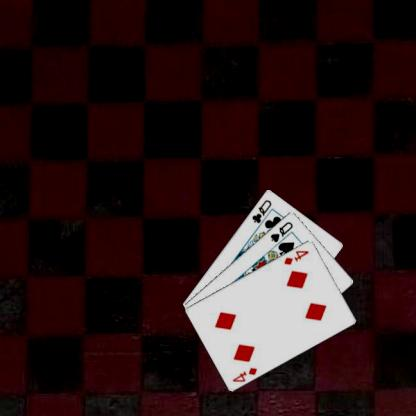4D: (281, 247, 310, 266), (230, 364, 259, 383)
QC: (249, 197, 273, 224)
QS: (268, 219, 295, 244)
